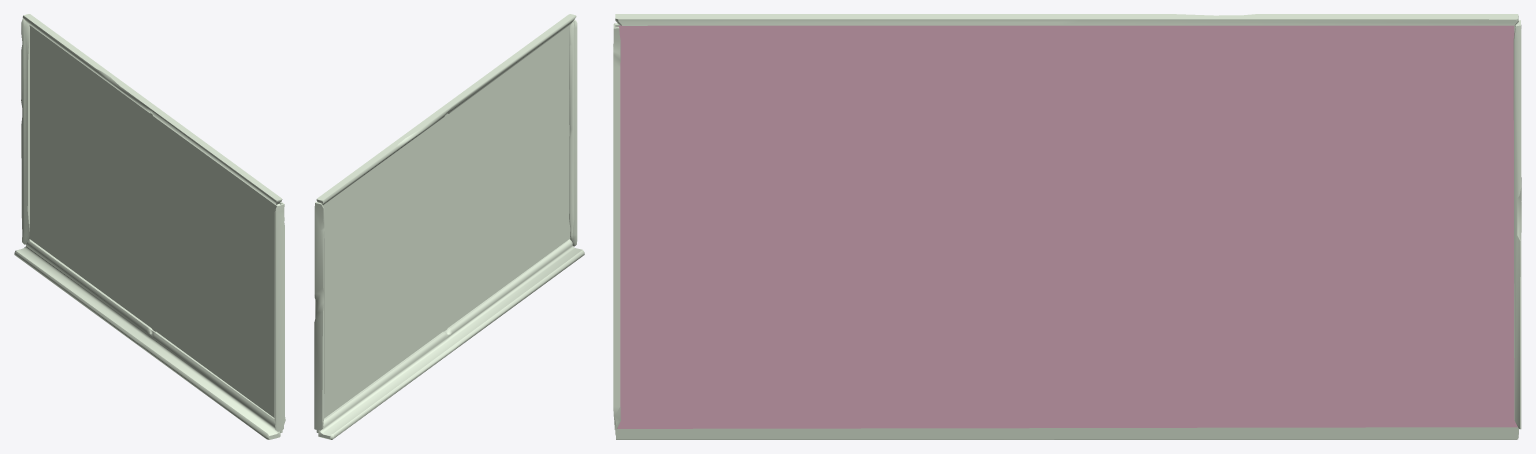
The model's file is board1.fbx.
The picture shows the model from 3 angles, left to right: view 1: azimuth 30°, elevation 25°; view 2: azimuth 150°, elevation 25°; view 3: azimuth 270°, elevation 25°; orthographic projection. The views are drawn at different scales.
Parts seen in each view (by area): view 1: mex_d06_controll_tablo00_001; view 2: mex_d06_controll_tablo00_001; view 3: mex_d06_controll_tablo00_001.
Boxes of the visible parts, left/top/right/bottom form: mex_d06_controll_tablo00_001: left=14, top=14, right=285, bottom=439; mex_d06_controll_tablo00_001: left=314, top=14, right=584, bottom=439; mex_d06_controll_tablo00_001: left=613, top=14, right=1521, bottom=439.
Size of the model in its own units: 11.88 by 147 by 285.
